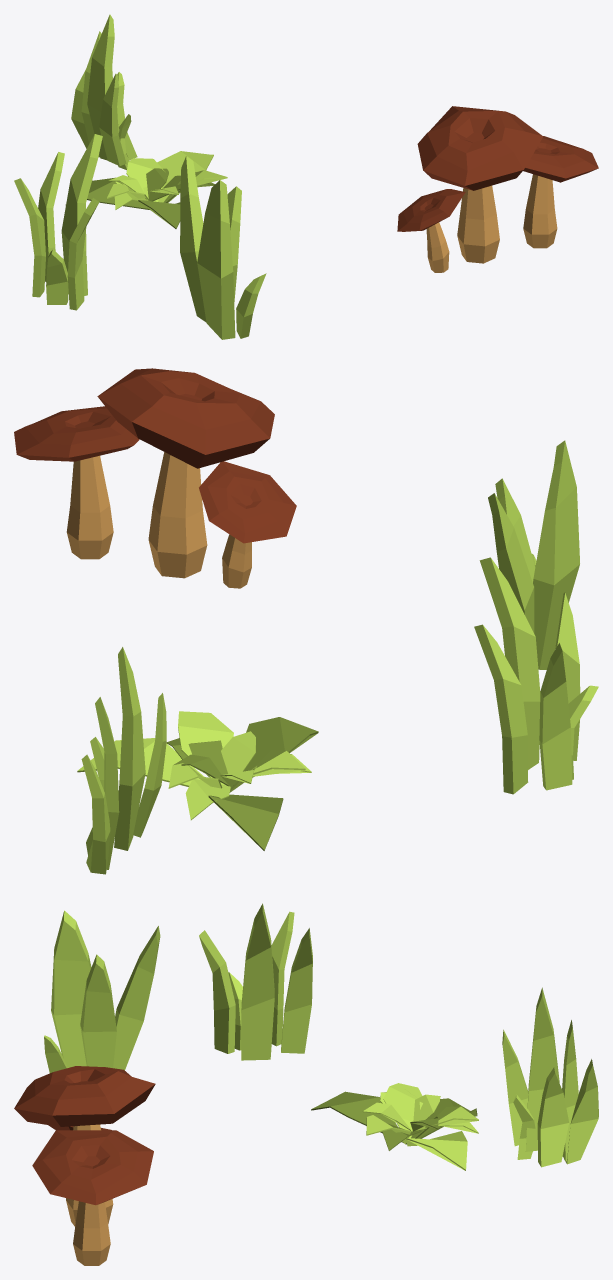
File: GRASS.fbx
3 views of the same model, one above another, from view 1: azimuth 30°, elevation 25°; view 2: azimuth 150°, elevation 25°; view 3: azimuth 270°, elevation 25° (orthographic). The views are drawn at different scales.
Visible parts, largest first — view 1: Mushroom 1.001, GRASS2, GRASS1, GRASS3, GRASSFLAT; view 2: Mushroom 1.001, GRASS1, GRASSFLAT, GRASS2, GRASS3; view 3: Mushroom 1.001, GRASS1, GRASS2, GRASS3, GRASSFLAT.
Boxes of the visible parts, x1=… form: Mushroom 1.001: x1=397, y1=106, x2=598, y2=272; GRASS2: x1=180, y1=156, x2=266, y2=339; GRASS1: x1=14, y1=134, x2=102, y2=310; GRASS3: x1=71, y1=14, x2=137, y2=170; GRASSFLAT: x1=65, y1=151, x2=227, y2=228; Mushroom 1.001: x1=14, y1=368, x2=296, y2=588; GRASS1: x1=474, y1=557, x2=598, y2=794; GRASSFLAT: x1=77, y1=711, x2=318, y2=850; GRASS2: x1=488, y1=440, x2=579, y2=669; GRASS3: x1=81, y1=647, x2=166, y2=874; Mushroom 1.001: x1=14, y1=1066, x2=155, y2=1265; GRASS1: x1=199, y1=903, x2=312, y2=1060; GRASS2: x1=44, y1=910, x2=160, y2=1072; GRASS3: x1=502, y1=987, x2=598, y2=1167; GRASSFLAT: x1=311, y1=1083, x2=478, y2=1170.
Bounding box in the file's own units: 1256 × 420 × 1177.
